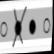correct: (27, 16, 38, 40)
not correct: (9, 5, 29, 49)
